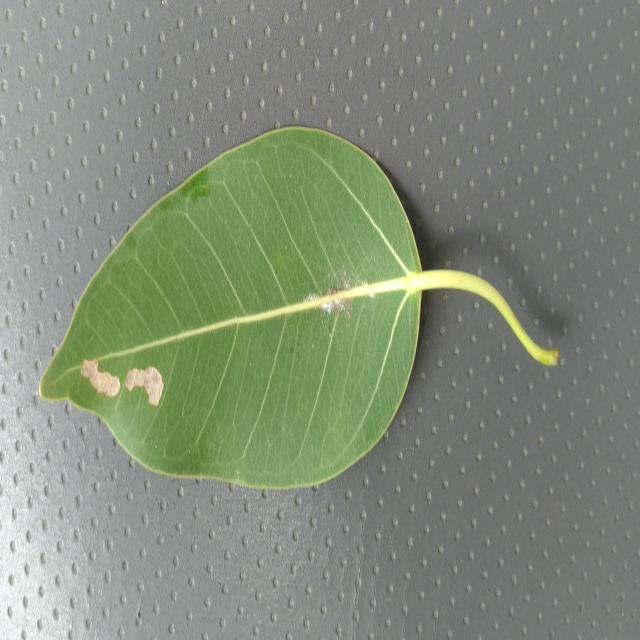camphor: (40, 127, 535, 489)
